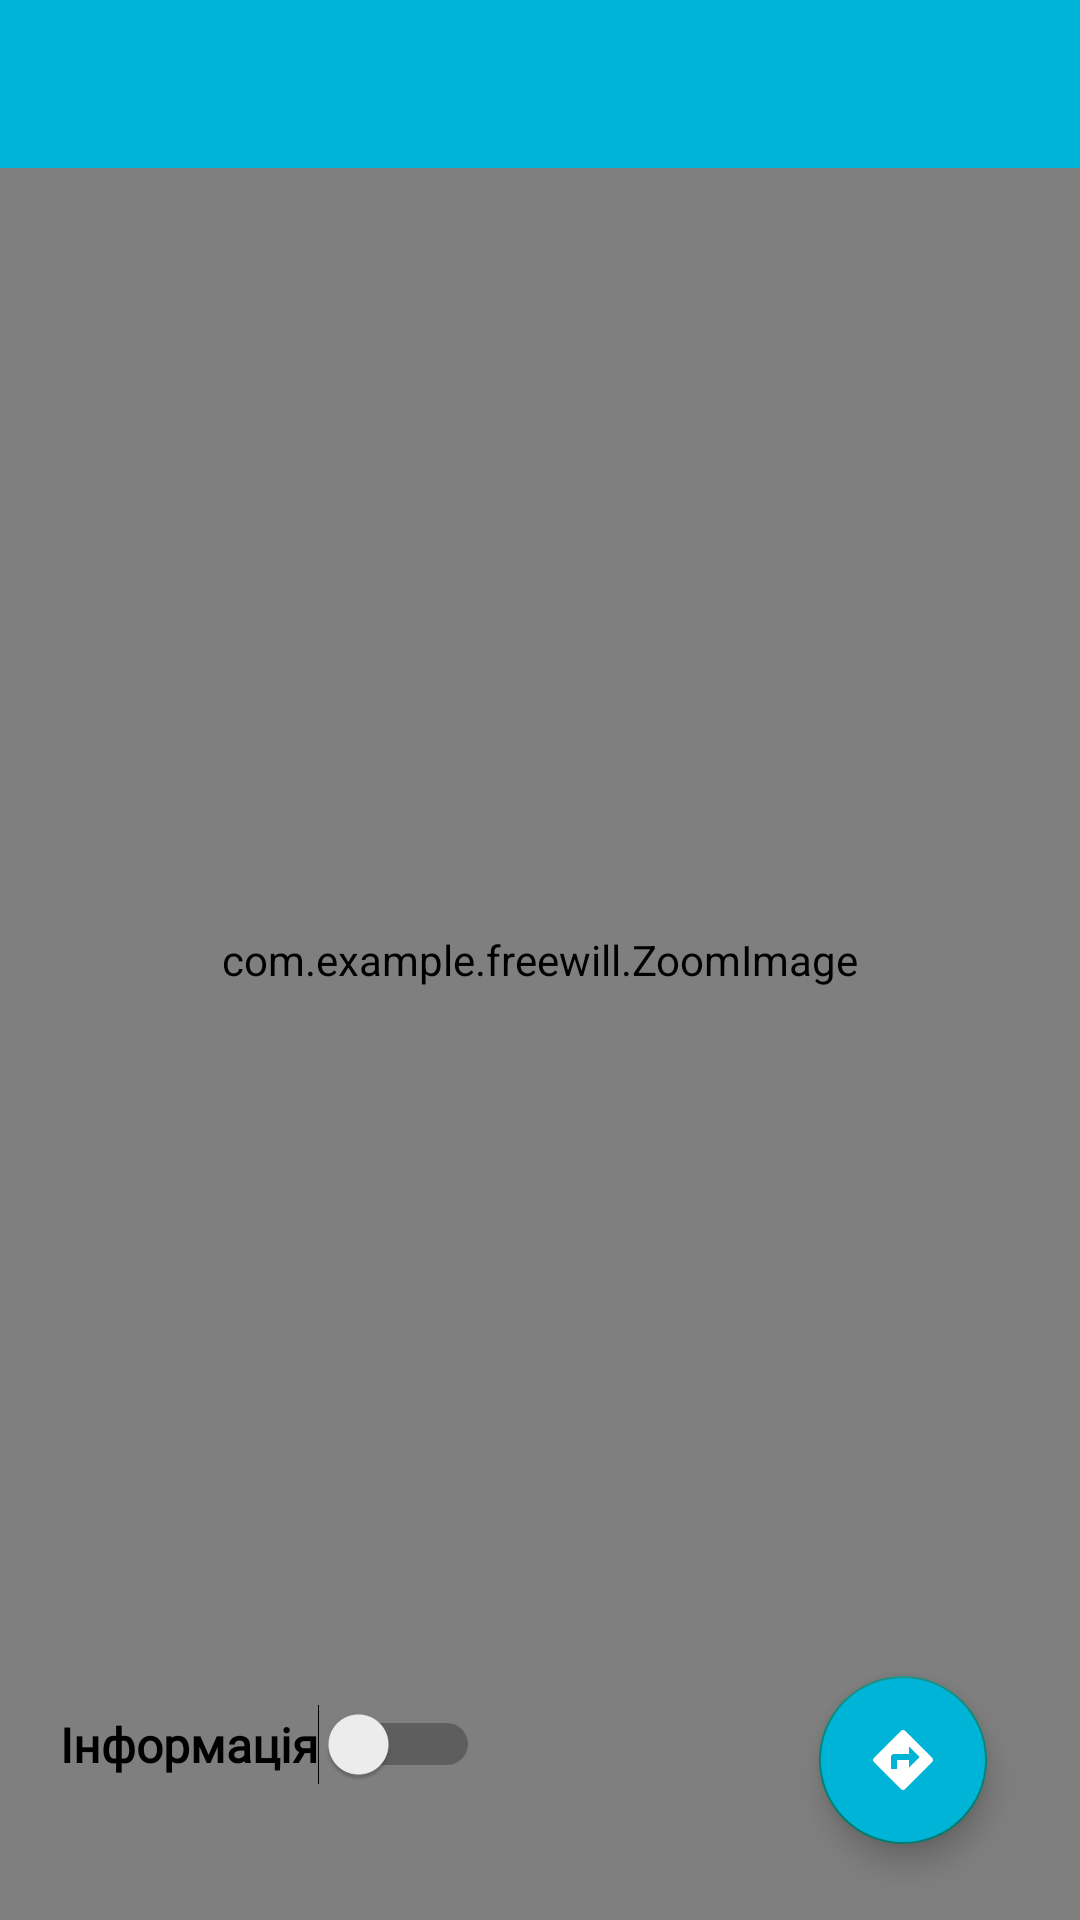

Icons on this 1080x1920 Android screen, each with the point to tap as [x,y]:
directions fab: [903,1760]
